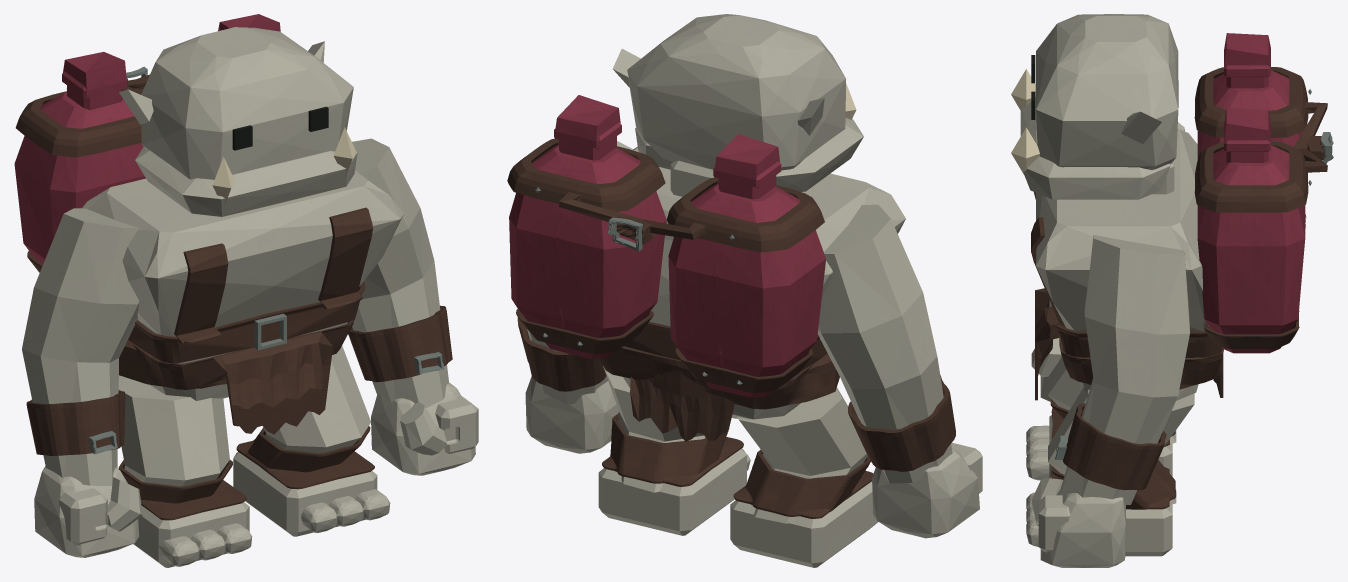
File: host_38-wraith.glb
3 renders of one model, left to right at view 1: azimuth 30°, elevation 25°; view 2: azimuth 150°, elevation 25°; view 3: azimuth 270°, elevation 25°, orthographic. The views are drawn at different scales.
Visible parts, largest first — view 1: One continuous source skull, Source connected torso mass, RIGHT full actual connected arm, LEFT full actual connected arm, Exactly two enormous red blood sacks 1, RIGHT source short joined leg, Source long pointed ragged troll FRONT loincloth, RIGHT compact curled source fist, LEFT compact curled source fist, Source actual complete troll waist belt, LEFT source short joined leg, LEFT fitted source hollow leather bracer (+21 smaller); view 2: One continuous source skull, Exactly two enormous red blood sacks 1, RIGHT full actual connected arm, Exactly two enormous red blood sacks -1, RIGHT source short joined leg, RIGHT compact curled source fist, LEFT source planted boot, RIGHT source planted boot, Source connected torso mass, LEFT source planted boot actual ankle leather wrap, Source substantial upper sack retaining band 1, Source substantial upper sack retaining band -1 (+21 smaller); view 3: One continuous source skull, LEFT full actual connected arm, Exactly two enormous red blood sacks -1, Source connected torso mass, LEFT compact curled source fist, LEFT fitted source hollow leather bracer, Source substantial upper sack retaining band -1, Source substantial upper sack retaining band 1, Exactly two enormous red blood sacks 1, LEFT source planted boot, Source red sack closed cap 1, Source red sack closed cap -1 (+17 smaller).
Boxes of the visible parts, bbox=[...] form: One continuous source skull: bbox=[135, 27, 357, 216]; Source connected torso mass: bbox=[82, 169, 403, 363]; RIGHT full actual connected arm: bbox=[22, 208, 139, 485]; LEFT full actual connected arm: bbox=[352, 138, 448, 407]; Exactly two enormous red blood sacks 1: bbox=[14, 92, 145, 263]; RIGHT source short joined leg: bbox=[118, 375, 229, 486]; Source long pointed ragged troll FRONT loincloth: bbox=[213, 331, 332, 434]; RIGHT compact curled source fist: bbox=[34, 466, 142, 557]; LEFT compact curled source fist: bbox=[371, 382, 478, 475]; Source actual complete troll waist belt: bbox=[128, 282, 365, 363]; LEFT source short joined leg: bbox=[263, 346, 370, 453]; LEFT fitted source hollow leather bracer: bbox=[348, 305, 452, 382]; One continuous source skull: bbox=[627, 14, 863, 191]; Exactly two enormous red blood sacks 1: bbox=[668, 183, 825, 397]; RIGHT full actual connected arm: bbox=[817, 204, 952, 483]; Exactly two enormous red blood sacks -1: bbox=[509, 144, 666, 358]; RIGHT source short joined leg: bbox=[737, 387, 867, 523]; RIGHT compact curled source fist: bbox=[872, 442, 982, 538]; LEFT source planted boot: bbox=[598, 448, 746, 535]; RIGHT source planted boot: bbox=[730, 481, 878, 567]; Source connected torso mass: bbox=[623, 146, 905, 377]; LEFT source planted boot actual ankle leather wrap: bbox=[602, 413, 743, 486]; Source substantial upper sack retaining band 1: bbox=[666, 177, 824, 252]; Source substantial upper sack retaining band -1: bbox=[507, 138, 665, 211]; One continuous source skull: bbox=[1020, 14, 1178, 199]; LEFT full actual connected arm: bbox=[1061, 235, 1189, 504]; Exactly two enormous red blood sacks -1: bbox=[1197, 145, 1305, 353]; Source connected torso mass: bbox=[1036, 129, 1209, 358]; LEFT compact curled source fist: bbox=[1031, 478, 1126, 567]; LEFT fitted source hollow leather bracer: bbox=[1063, 403, 1166, 490]; Source substantial upper sack retaining band -1: bbox=[1194, 141, 1308, 212]; Source substantial upper sack retaining band 1: bbox=[1194, 67, 1308, 137]; Exactly two enormous red blood sacks 1: bbox=[1197, 70, 1302, 159]; LEFT source planted boot: bbox=[1050, 477, 1172, 556]; Source red sack closed cap 1: bbox=[1224, 33, 1270, 77]; Source red sack closed cap -1: bbox=[1224, 108, 1270, 151].
Size of the model in its own units: 2.34 by 2.6 by 1.6.
Materials: 6 (5 with a texture image).
